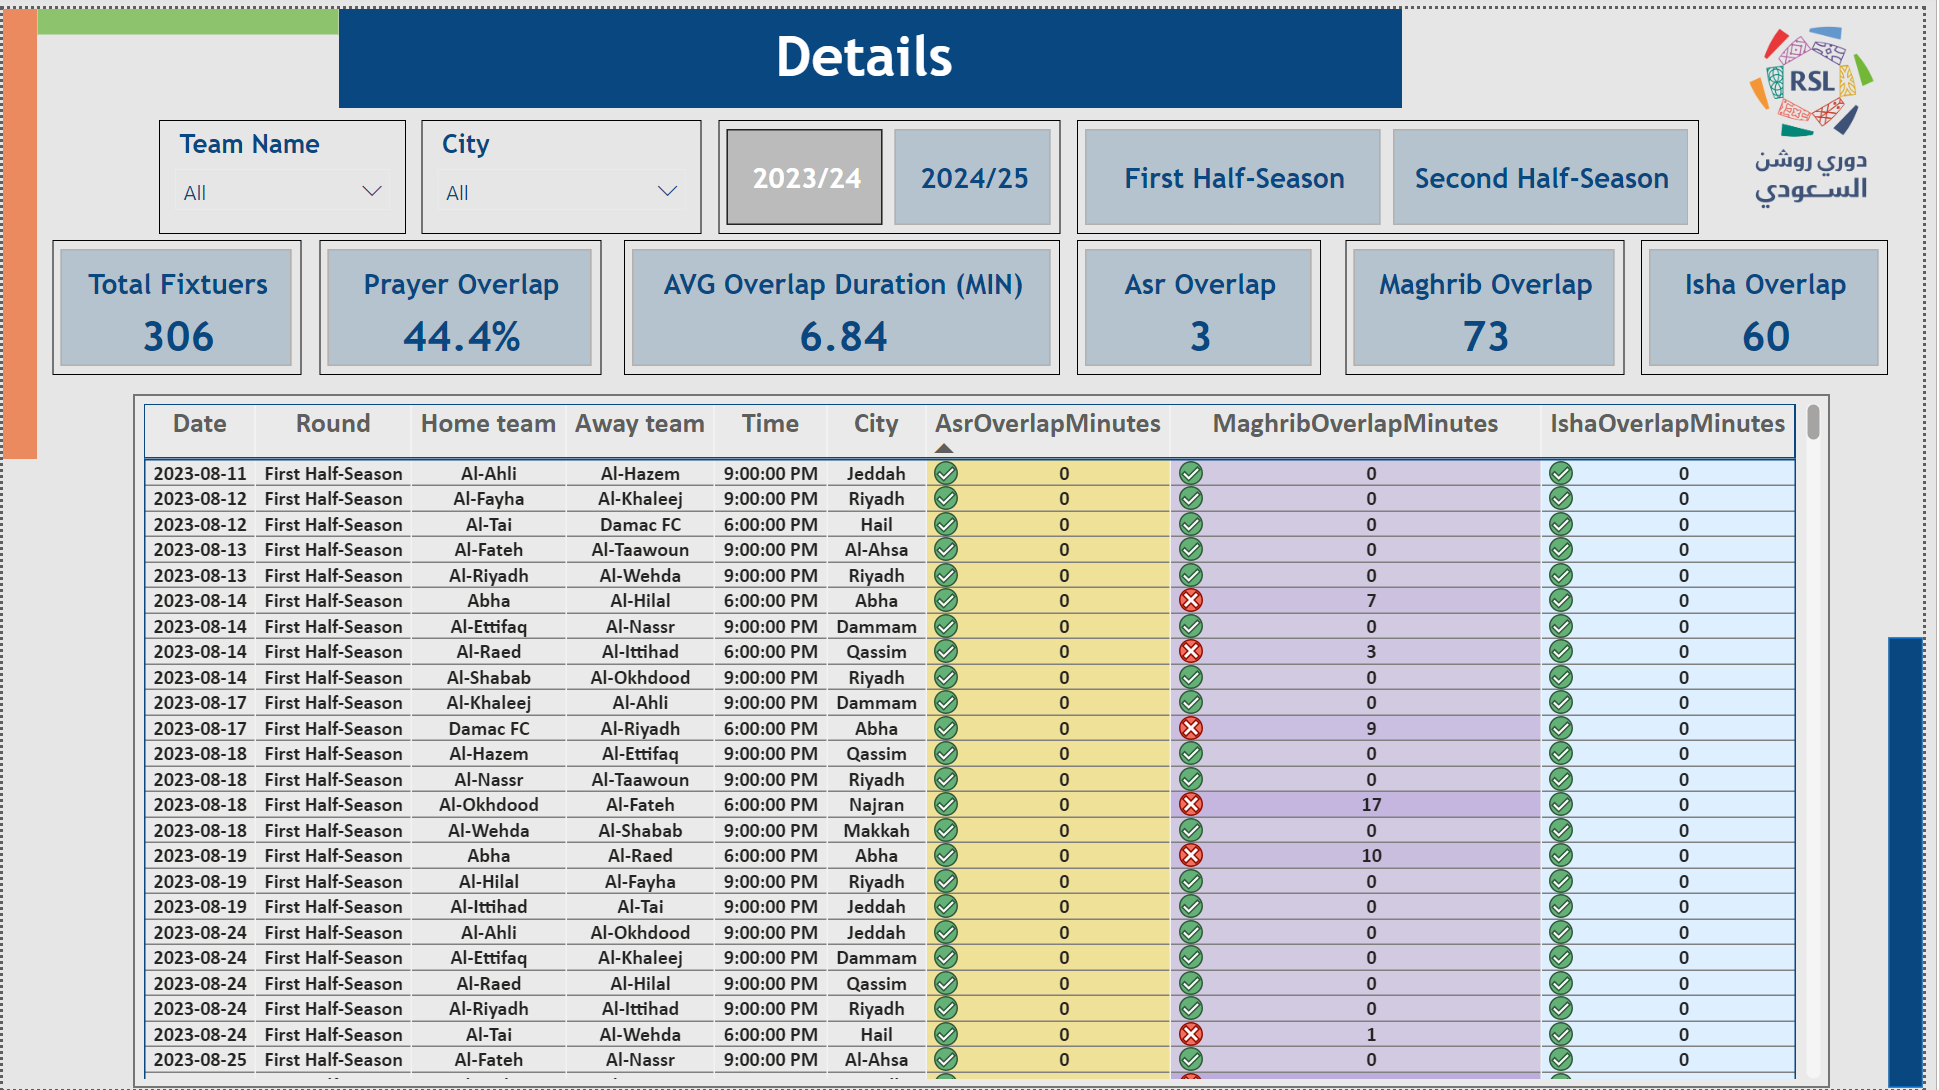

Layout of this report page (visuals, bound fields, positions):
{"tool":"powerbi","page":{"name":"Details","canvas":[1280,720],"ordinal":1},"visuals":[{"type":"shape","box":[224.1,0,709.2,66.2],"z":0},{"type":"shape","box":[1256.7,418.9,22.9,300.5],"z":1000},{"type":"shape","box":[22.9,0,201.2,16.6],"z":2000},{"type":"shape","box":[0,0,22.9,299.6],"z":3000},{"type":"cardVisual","fields":{"Data":["FixtuersTable.NoOfMatches"]},"box":[33.1,154.1,165.5,90.4],"z":4000},{"type":"advancedSlicerVisual","title":"الموسم","fields":{"Values":["FixtuersTable.Season"]},"box":[477.5,73.8,227.9,76.4],"z":5000},{"type":"cardVisual","fields":{"Data":["FixtuersTable.Measure"]},"box":[211.4,154.1,187.2,90.4],"z":6000},{"type":"slicer","title":"الموسم","fields":{"Values":["FixtuersTable.Home team"]},"box":[104.4,73.8,164.2,76.4],"z":8000},{"type":"slicer","title":"الموسم","fields":{"Values":["FixtuersTable.FixCityName"]},"box":[278.8,73.8,187.2,76.4],"z":9000},{"type":"cardVisual","fields":{"Data":["Sum(FixtuersTable.AsrConflict)"]},"box":[715.5,154.1,163,90.4],"z":10000},{"type":"cardVisual","fields":{"Data":["Sum(FixtuersTable.MaghribConflict)"]},"box":[895.1,154.1,185.9,90.4],"z":11000},{"type":"cardVisual","fields":{"Data":["Sum(FixtuersTable.IshaConflict)"]},"box":[1092.4,154.1,164.2,90.4],"z":12000},{"type":"advancedSlicerVisual","title":"الموسم","fields":{"Values":["FixtuersTable.Rounds"]},"box":[715.5,73.8,415.1,76.4],"z":15000},{"type":"cardVisual","fields":{"Data":["FixtuersTable.AvgMin"]},"box":[413.8,154.1,291.6,90.4],"z":18000},{"type":"textbox","box":[211.4,3.8,725.7,58.6],"z":21000},{"type":"image","box":[1130.6,6.4,149,131.1],"z":21001},{"type":"tableEx","fields":{"Values":["FixtuersTable.Date","FixtuersTable.Rounds","FixtuersTable.Home team","FixtuersTable.Away team","FixtuersTable.Time","FixtuersTable.FixCityName","FixtuersTable.AsrConflictMinutes","FixtuersTable.MaghribConflictMinutes","FixtuersTable.IshaConflictMinutes"]},"box":[86.6,257.2,1131.9,462.2],"z":21002}]}

Visuals, with their boxes in screenshot pixels (x1, y1, x2, y2), scaled from the page's 1280x720 canvas onto the 1939x1090 screenshot:
shape: x1=339 y1=0 x2=1414 y2=100
shape: x1=1904 y1=634 x2=1938 y2=1089
shape: x1=35 y1=0 x2=339 y2=25
shape: x1=0 y1=0 x2=35 y2=454
cardVisual - FixtuersTable.NoOfMatches: x1=50 y1=233 x2=301 y2=370
"الموسم" advancedSlicerVisual: x1=723 y1=112 x2=1069 y2=227
cardVisual - FixtuersTable.Measure: x1=320 y1=233 x2=604 y2=370
"الموسم" slicer: x1=158 y1=112 x2=407 y2=227
"الموسم" slicer: x1=422 y1=112 x2=706 y2=227
cardVisual - Sum(FixtuersTable.AsrConflict): x1=1084 y1=233 x2=1331 y2=370
cardVisual - Sum(FixtuersTable.MaghribConflict): x1=1356 y1=233 x2=1638 y2=370
cardVisual - Sum(FixtuersTable.IshaConflict): x1=1655 y1=233 x2=1904 y2=370
"الموسم" advancedSlicerVisual: x1=1084 y1=112 x2=1713 y2=227
cardVisual - FixtuersTable.AvgMin: x1=627 y1=233 x2=1069 y2=370
textbox: x1=320 y1=6 x2=1420 y2=94
image: x1=1713 y1=10 x2=1938 y2=208
tableEx - FixtuersTable.Date x FixtuersTable.Rounds: x1=131 y1=389 x2=1846 y2=1089
